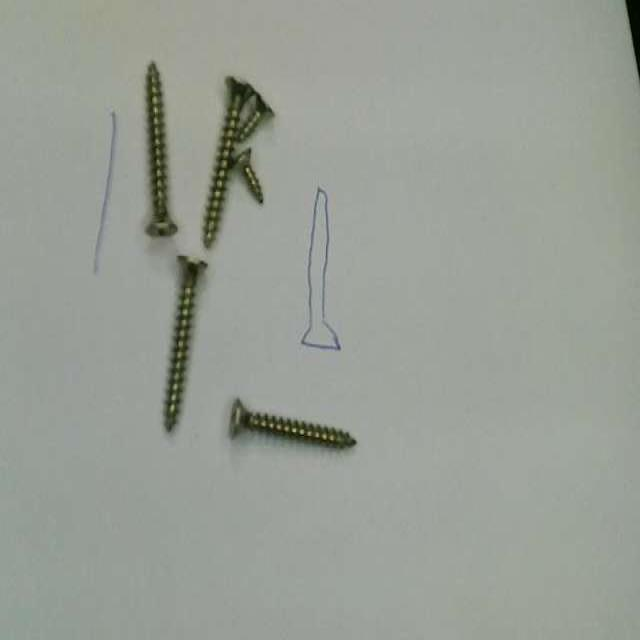Parafuso: (203, 76, 256, 247), (164, 256, 206, 431), (230, 399, 356, 449), (145, 62, 176, 237), (236, 94, 274, 142), (233, 148, 263, 203)
